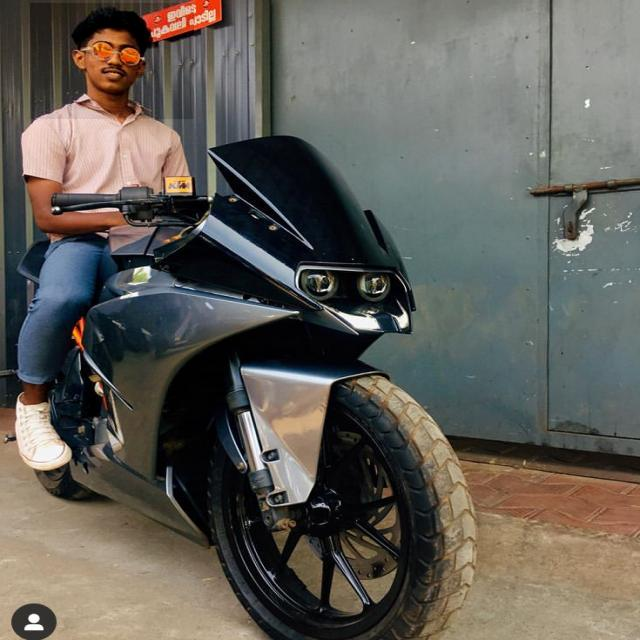No_Helmet: (31, 4, 194, 120)
